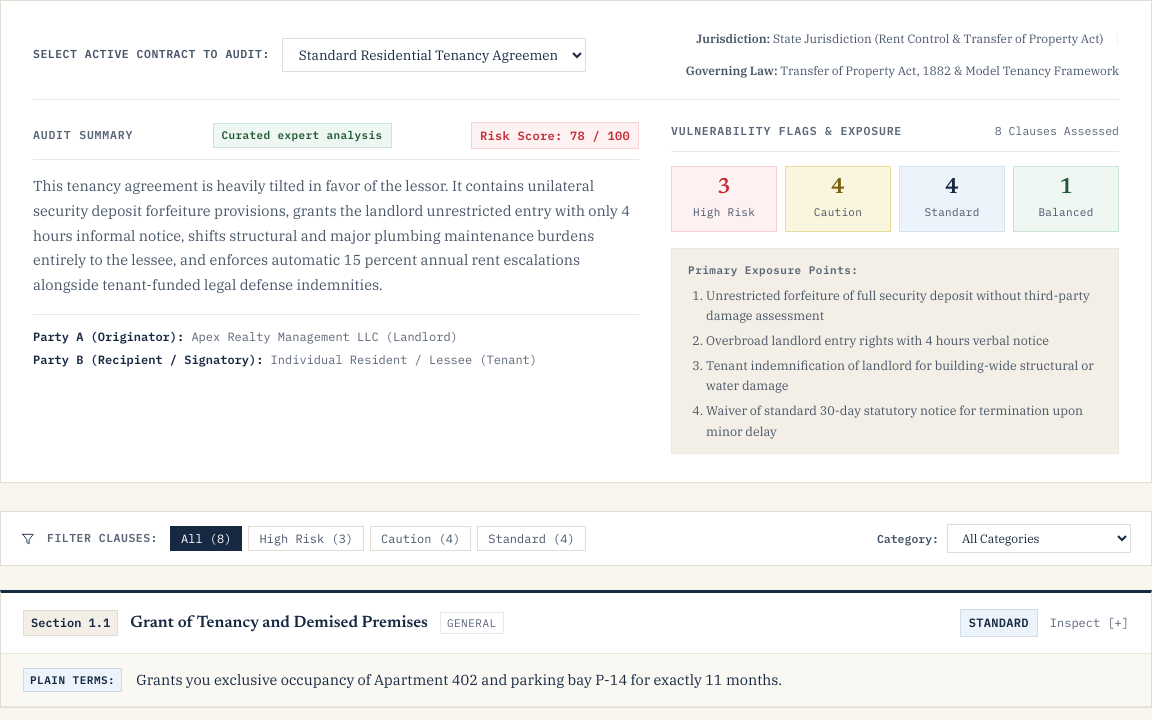
DocumentAuditor › filters clauses by risk level and category and exposes pressed state
Click the button "High Risk (3)": click(306, 539) 248,526 -> 364,551
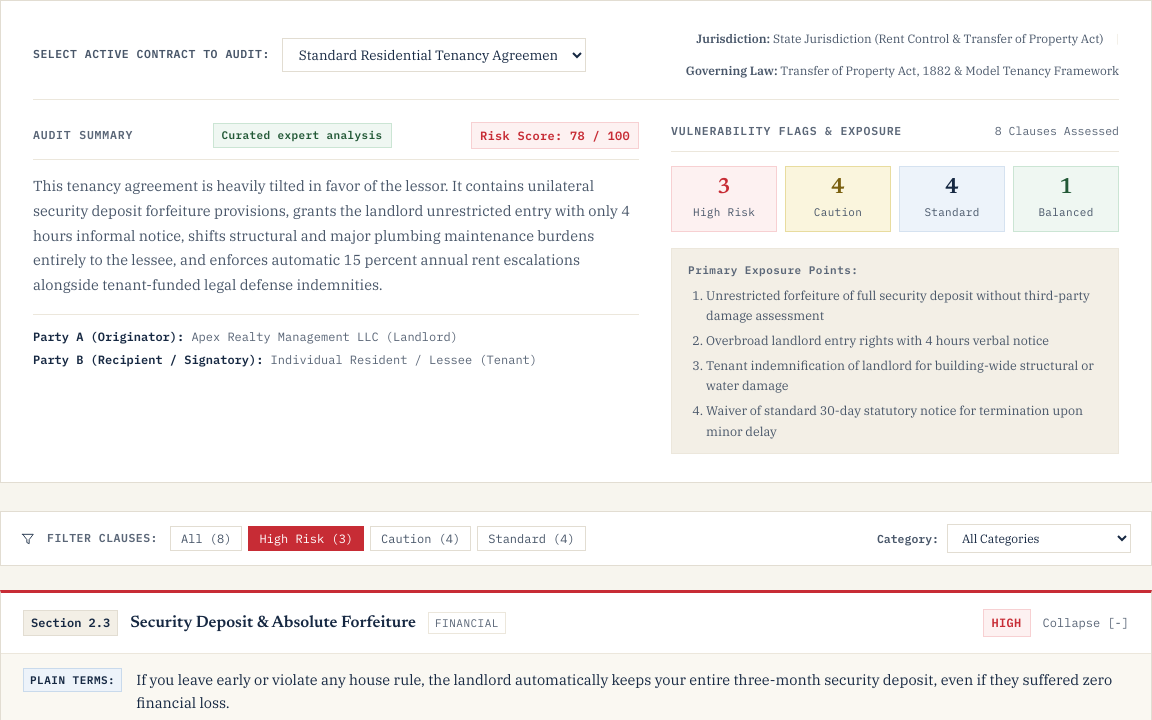
Result: the number of elements with class "clause-card" is 3
Select "Intellectual Property" in the dropdown labelled "Category:": (1039, 539) 947,524 -> 1131,553
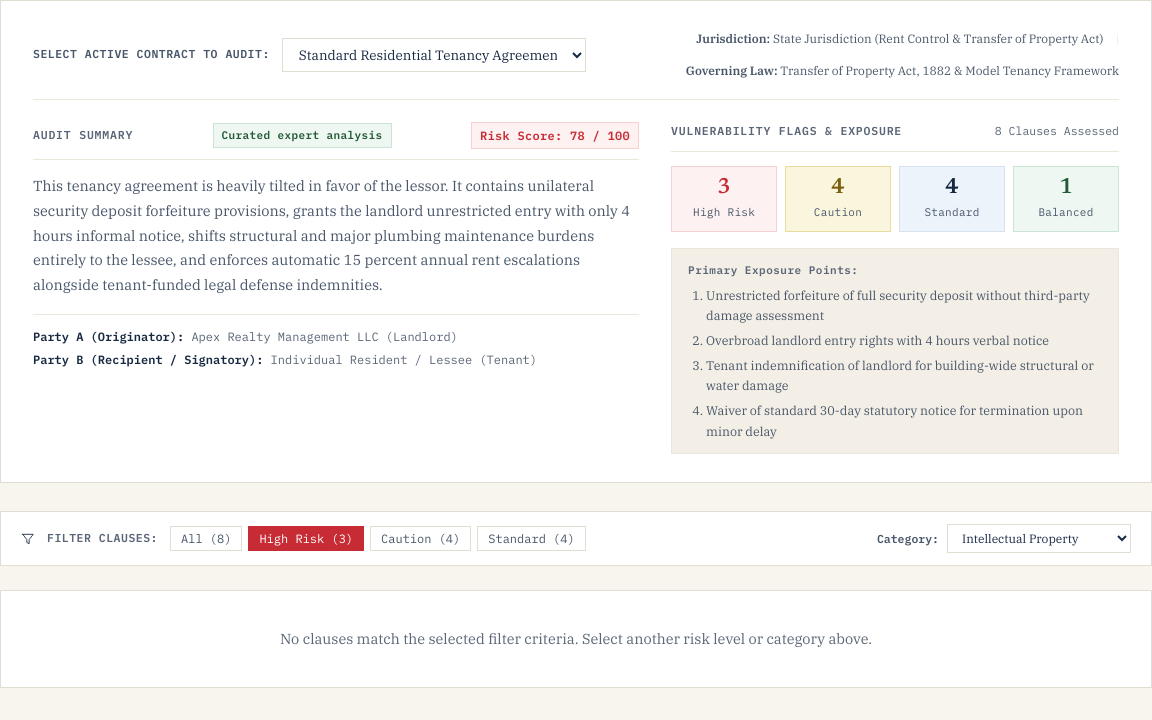
Result: the text "No clauses match the selected filter criteria" is shown at 280,629 -> 872,648
